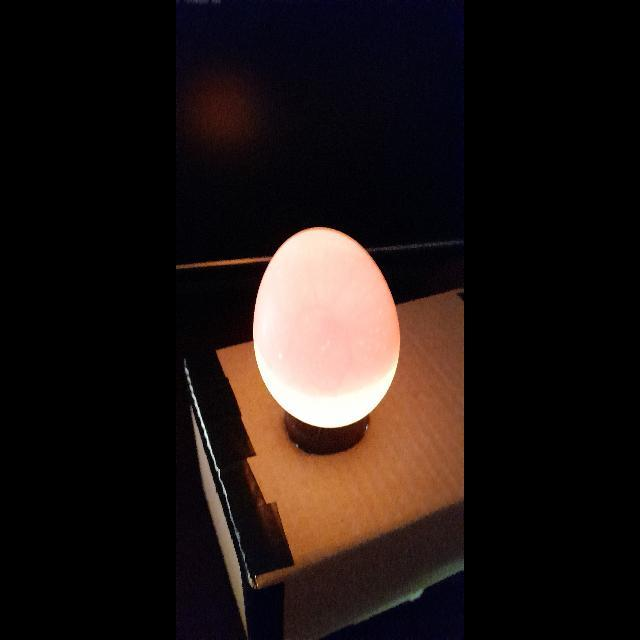A - Good: (249, 227, 403, 427)
